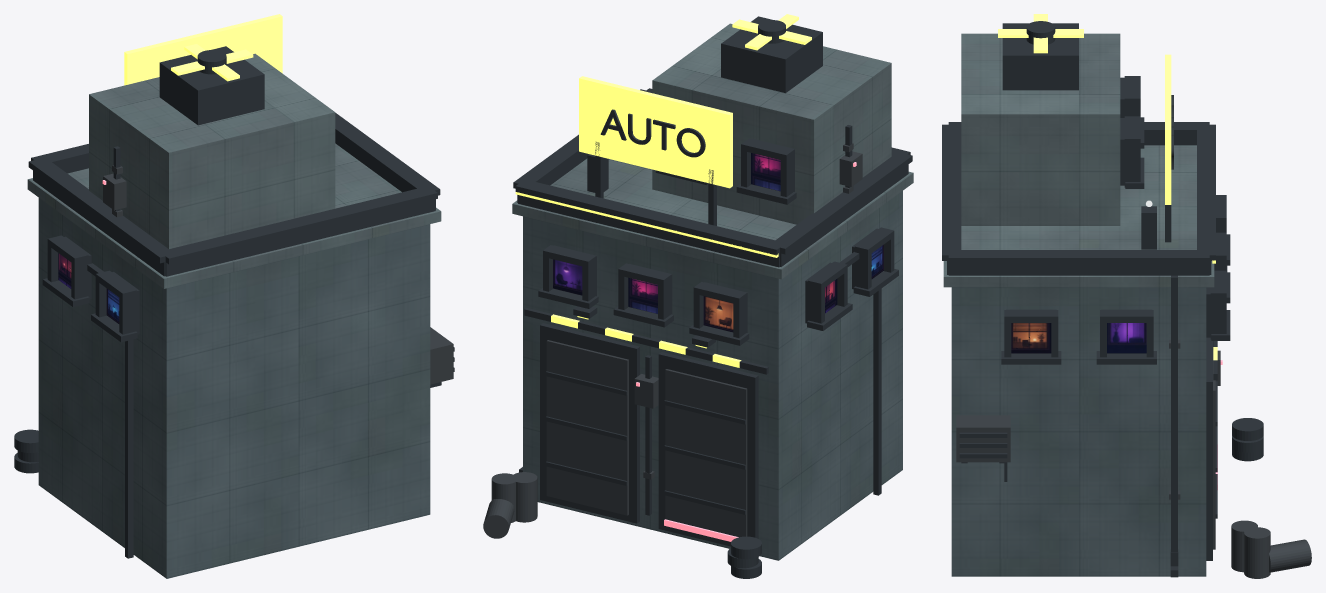
Rendered from synthwave-workshop.glb.
The picture shows the model from 3 angles, left to right: view 1: azimuth 30°, elevation 25°; view 2: azimuth 150°, elevation 25°; view 3: azimuth 270°, elevation 25°; orthographic projection. The views are drawn at different scales.
Parts seen in each view (by area): view 1: Bay, Wksp_Body2, Wksp_Frame, RK_ACUnit, BbPanel, Wksp_Door, Wksp_WorkshopWinArt; view 2: Bay, Wksp_Frame, Wksp_Body2, Wksp_Door, BbPanel, RK_ACUnit, Wksp_WorkshopWinArt, Wksp_DimA, BayNeon; view 3: Bay, Wksp_Body2, Wksp_Frame, Wksp_Door, RK_ACUnit, Wksp_WorkshopWinArt, BbPanel, RK_Vent, RK_FanHub.
Boxes of the visible parts, bbox=[...] form: Bay: bbox=[38, 198, 430, 578]; Wksp_Body2: bbox=[27, 53, 441, 288]; Wksp_Frame: bbox=[14, 113, 454, 558]; RK_ACUnit: bbox=[159, 46, 264, 125]; BbPanel: bbox=[124, 14, 282, 85]; Wksp_Door: bbox=[103, 165, 453, 384]; Wksp_WorkshopWinArt: bbox=[58, 253, 119, 323]; Bay: bbox=[523, 191, 902, 560]; Wksp_Frame: bbox=[513, 88, 912, 578]; Wksp_Body2: bbox=[512, 23, 913, 279]; Wksp_Door: bbox=[483, 143, 862, 538]; BbPanel: bbox=[579, 76, 732, 188]; RK_ACUnit: bbox=[721, 16, 822, 93]; Wksp_WorkshopWinArt: bbox=[553, 153, 883, 331]; Wksp_DimA: bbox=[551, 314, 741, 367]; BayNeon: bbox=[515, 192, 778, 257]; Bay: bbox=[951, 287, 1206, 576]; Wksp_Body2: bbox=[943, 33, 1214, 287]; Wksp_Frame: bbox=[942, 76, 1263, 577]; Wksp_Door: bbox=[956, 339, 1311, 578]; RK_ACUnit: bbox=[1002, 23, 1078, 90]; Wksp_WorkshopWinArt: bbox=[1011, 323, 1146, 353]; BbPanel: bbox=[1165, 54, 1171, 204]; RK_Vent: bbox=[1141, 206, 1156, 249]; RK_FanHub: bbox=[1026, 21, 1055, 44].
Bounding box in the file's own units: 1.13 × 1.61 × 1.16.
Materials: 12 (3 with a texture image).
